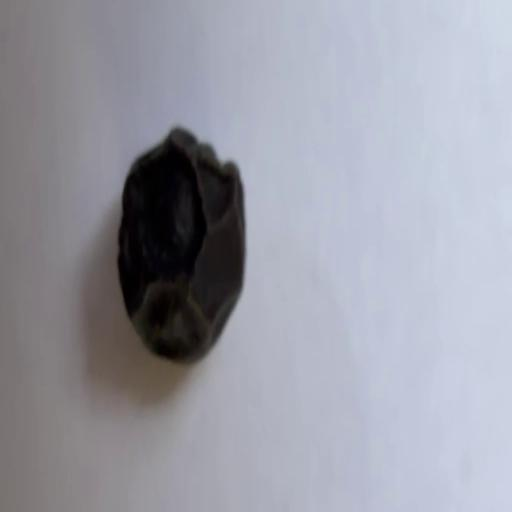Black_pepper: (107, 113, 255, 371)
